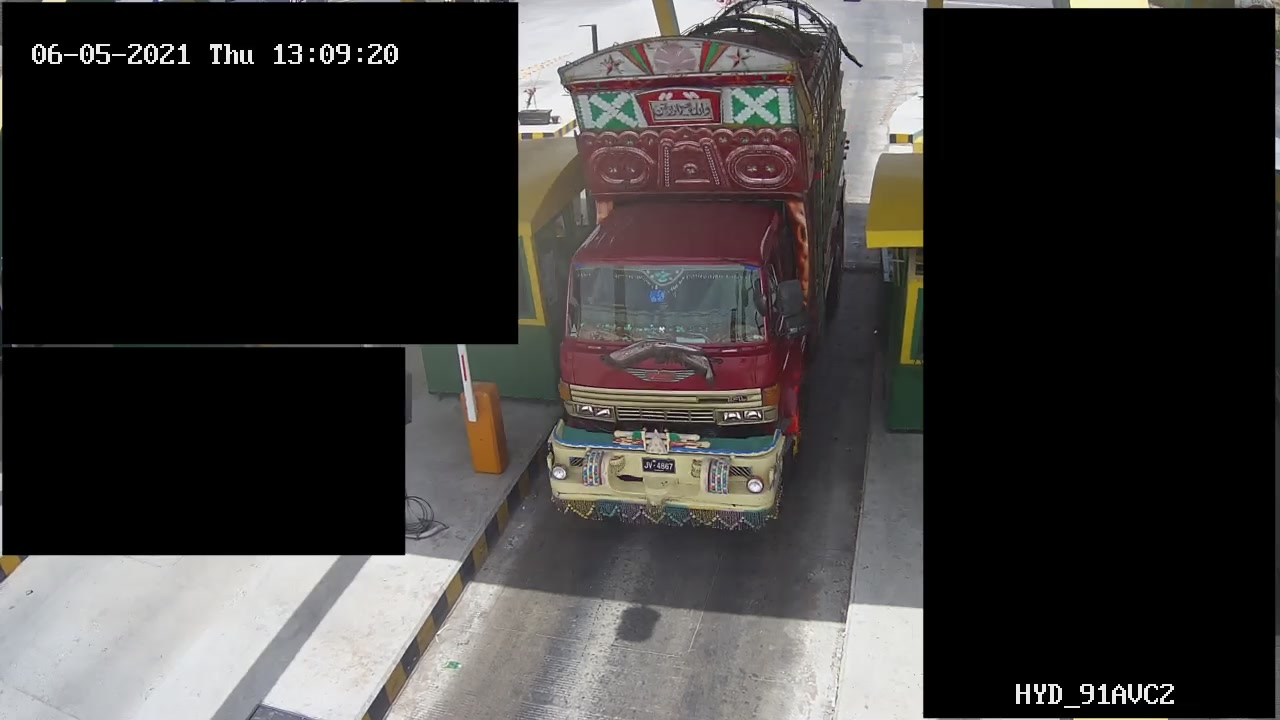F5: (548, 3, 852, 532)
